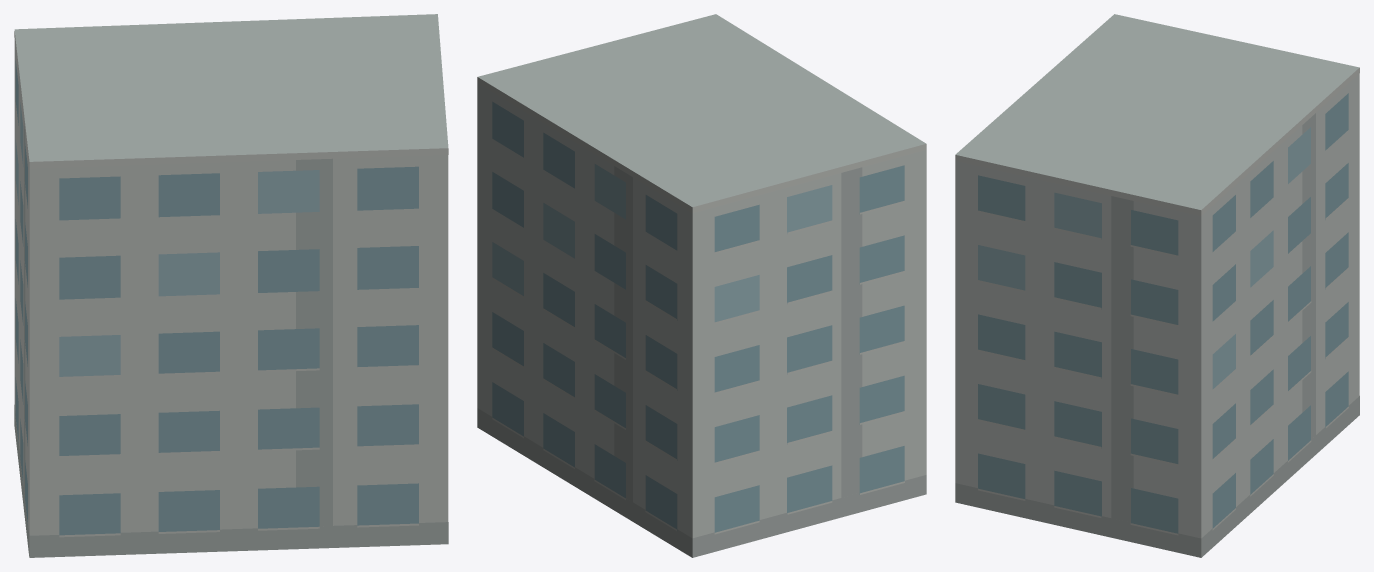
Rendered from survey-upis-32890106.glb.
The picture shows the model from 3 angles, left to right: view 1: azimuth 30°, elevation 25°; view 2: azimuth 150°, elevation 25°; view 3: azimuth 270°, elevation 25°; orthographic projection. The views are drawn at different scales.
Parts seen in each view (by area): view 1: survey-upis-32890106.tmp; view 2: survey-upis-32890106.tmp; view 3: survey-upis-32890106.tmp.
Boxes of the visible parts, left/top/right/bottom form: survey-upis-32890106.tmp: left=14, top=14, right=448, bottom=557; survey-upis-32890106.tmp: left=477, top=14, right=926, bottom=557; survey-upis-32890106.tmp: left=955, top=14, right=1359, bottom=557.
Bounding box in the file's own units: 17.13 × 14.15 × 14.93.
